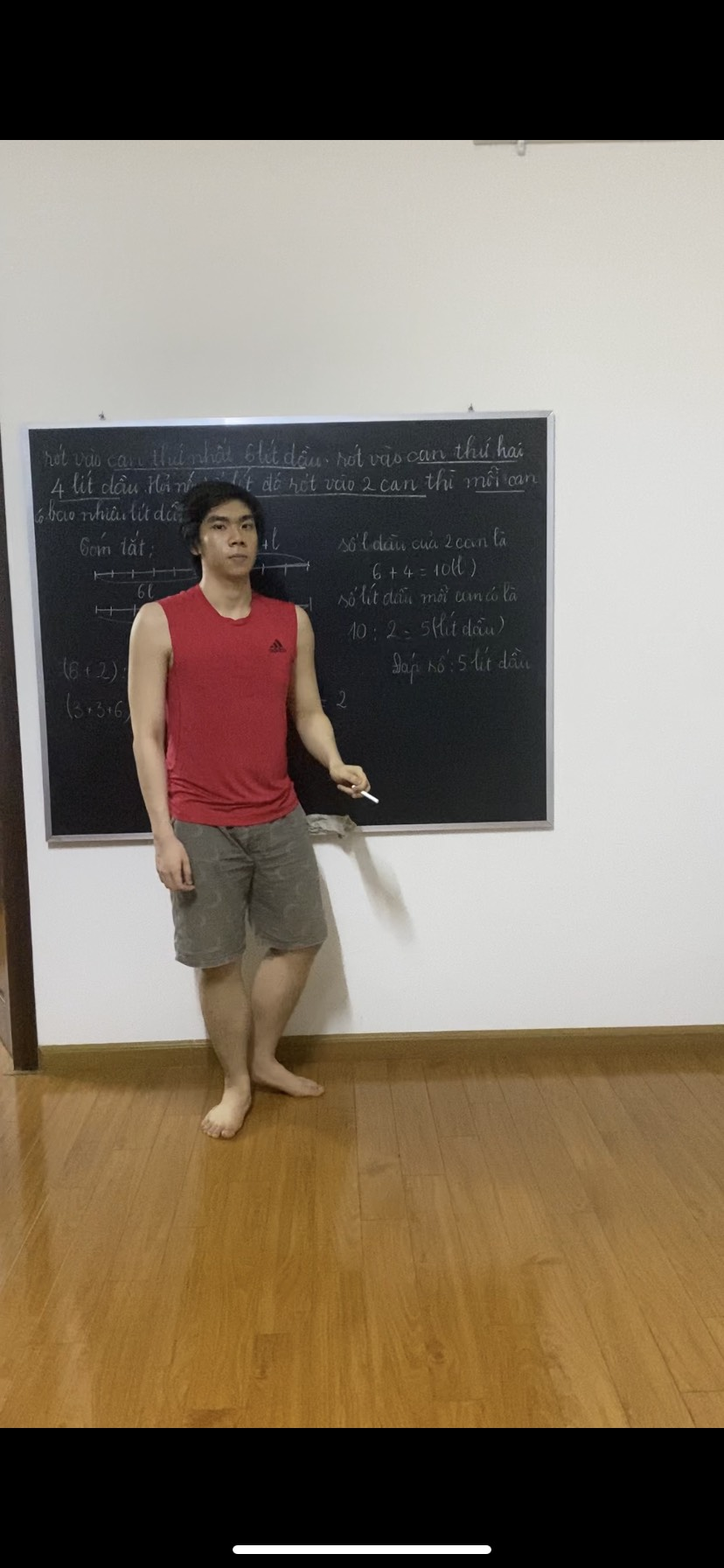cigarette: (360, 790, 383, 808)
person: (127, 481, 379, 1138)
